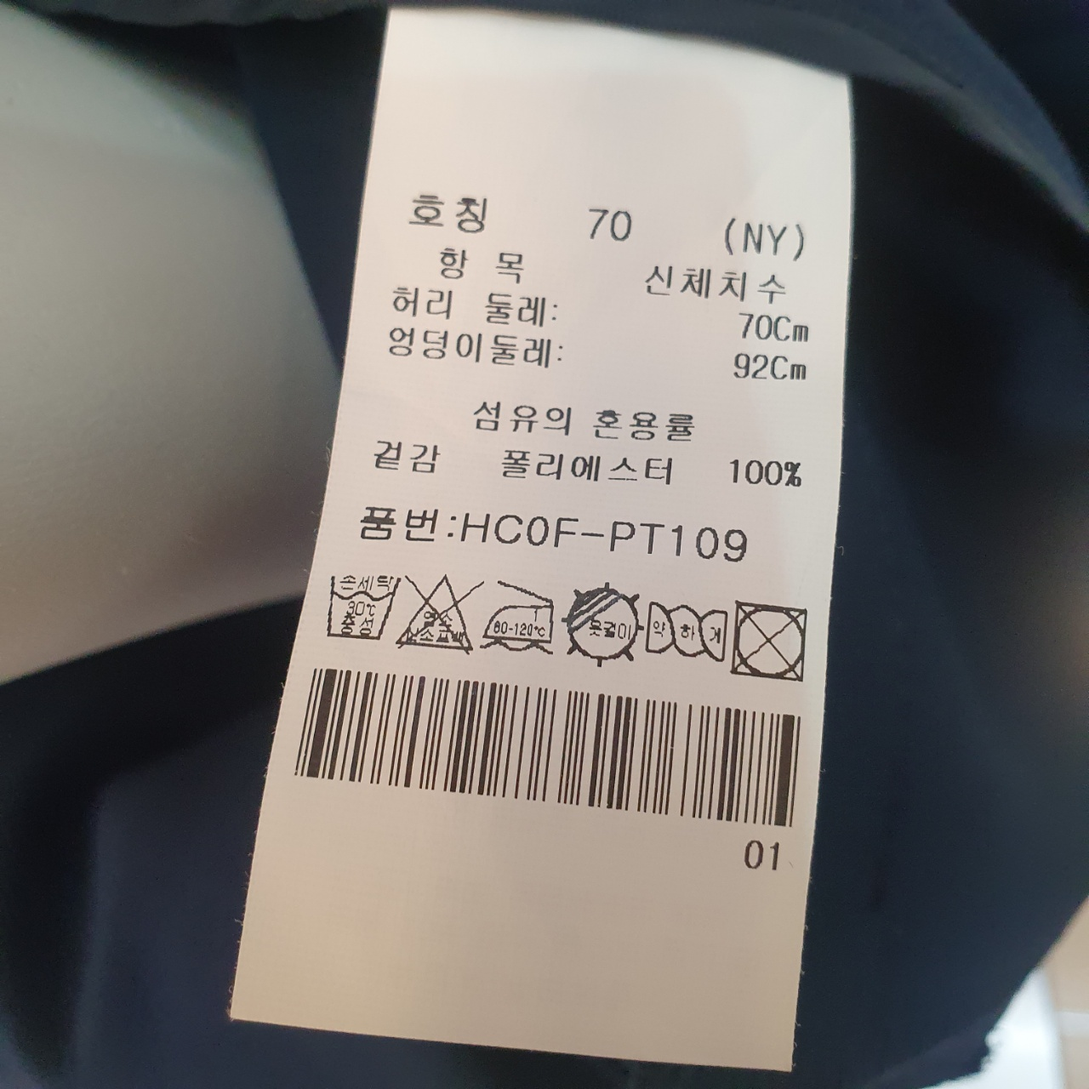KR_gentle_wring: (644, 599, 729, 664)
KR_hand_wash_30_neutral: (323, 567, 395, 643)
KR_hang_dry_in_shade: (561, 581, 642, 662)
KR_iron_low_temp_with_cloth: (483, 576, 559, 659)
KR_no_bleach: (398, 576, 476, 652)
KR_no_tumble_dry: (730, 595, 812, 686)
